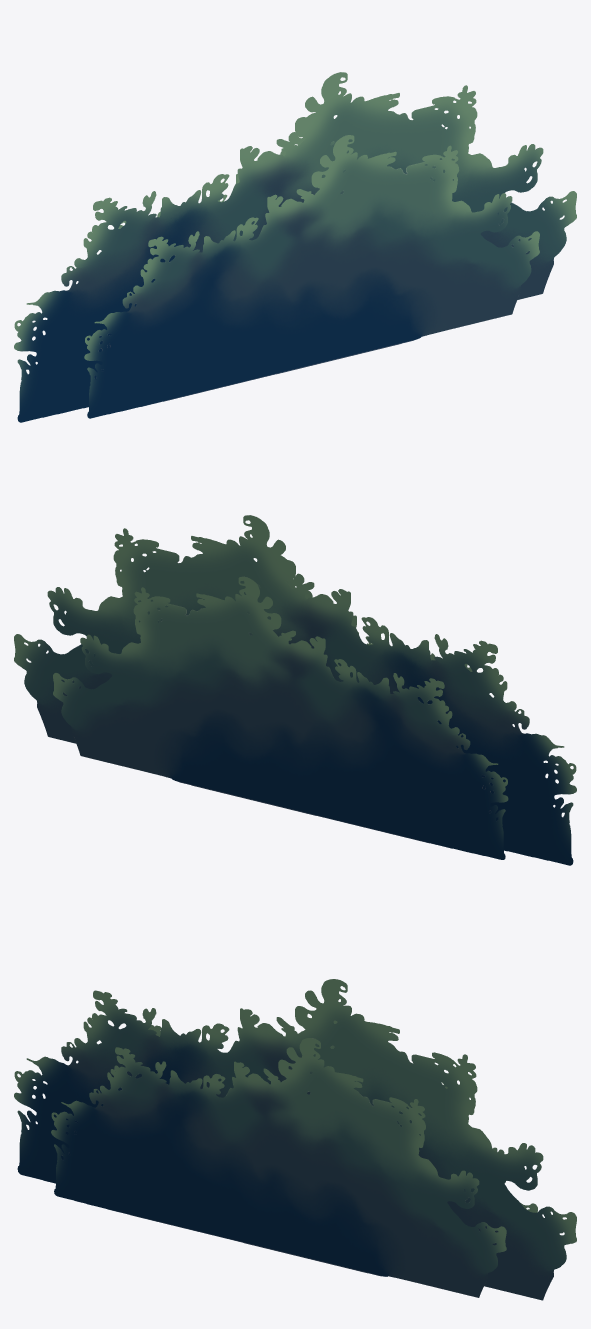
The model's file is BUSH.fbx.
The picture shows the model from 3 angles, top to bottom: view 1: azimuth 30°, elevation 25°; view 2: azimuth 150°, elevation 25°; view 3: azimuth 330°, elevation 25°; orthographic projection.
Visible parts, largest first — view 1: pPlane4; view 2: pPlane4; view 3: pPlane4.
Boxes of the visible parts, box(x1,y1,x2,y2) form: pPlane4: box(14, 72, 576, 422); pPlane4: box(14, 515, 576, 865); pPlane4: box(14, 979, 576, 1300).
Bounding box in the file's own units: 5.79 × 2.72 × 0.5581.
1 material, 1 textured.
